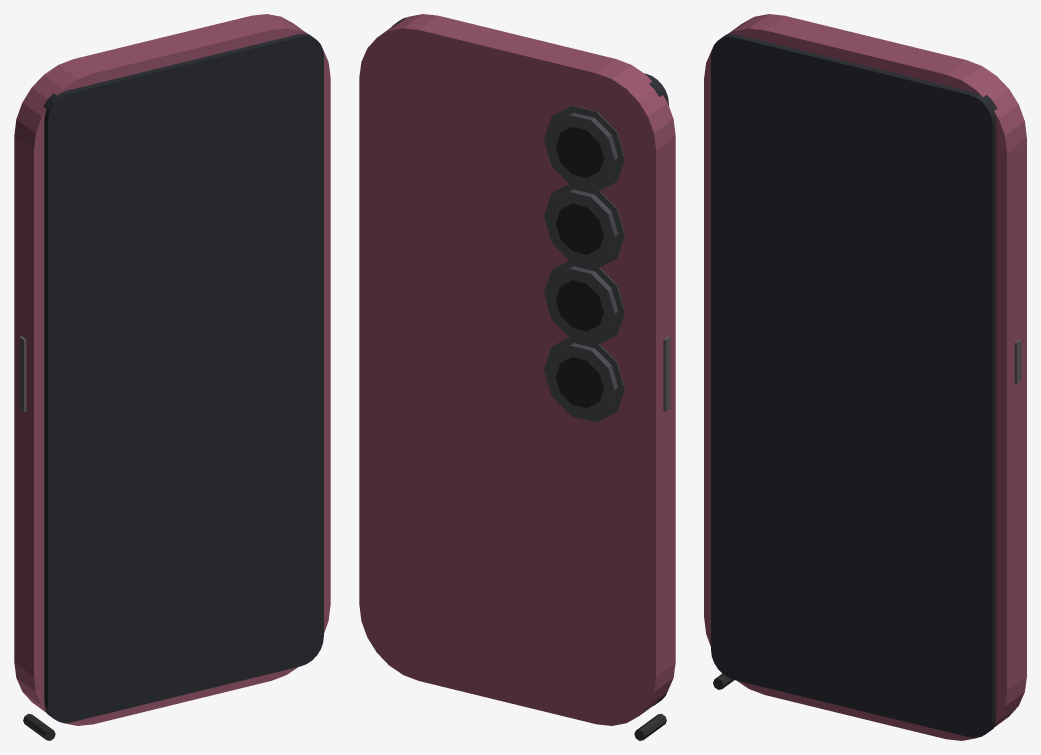
Rendered from 10_samsung_galaxy_s22_ultra.glb.
The picture shows the model from 3 angles, left to right: view 1: azimuth 30°, elevation 25°; view 2: azimuth 150°, elevation 25°; view 3: azimuth 330°, elevation 25°; orthographic projection. The views are drawn at different scales.
Parts seen in each view (by area): view 1: geometry_1, geometry_0, geometry_3; view 2: geometry_0, geometry_6, geometry_9, geometry_12, geometry_15, geometry_11, geometry_8, geometry_17, geometry_14, geometry_7, geometry_13, geometry_16 (+2 smaller); view 3: geometry_1, geometry_0.
Boxes of the visible parts, left/top/right/bottom form: geometry_1: left=43, top=32, right=323, bottom=722; geometry_0: left=14, top=14, right=330, bottom=725; geometry_3: left=19, top=336, right=26, bottom=411; geometry_0: left=359, top=14, right=675, bottom=725; geometry_6: left=546, top=112, right=618, bottom=188; geometry_9: left=546, top=189, right=618, bottom=264; geometry_12: left=546, top=266, right=617, bottom=341; geometry_15: left=546, top=343, right=618, bottom=418; geometry_11: left=556, top=203, right=604, bottom=254; geometry_8: left=556, top=126, right=604, bottom=177; geometry_17: left=556, top=356, right=604, bottom=408; geometry_14: left=556, top=280, right=604, bottom=331; geometry_7: left=544, top=105, right=624, bottom=191; geometry_13: left=544, top=260, right=624, bottom=345; geometry_16: left=544, top=337, right=624, bottom=422; geometry_1: left=711, top=32, right=996, bottom=737; geometry_0: left=704, top=14, right=1026, bottom=740.
Bounding box in the file's own units: 0.2529 × 0.5253 × 0.0411.
